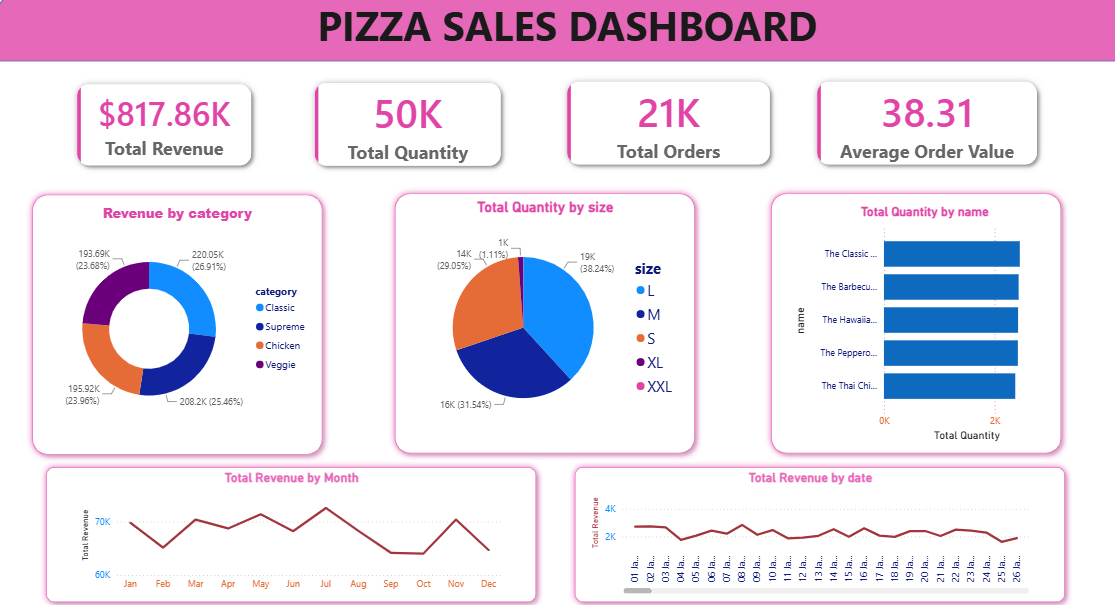

The page's visual inventory and layout, read from the dashboard file:
{"tool":"powerbi","page":{"name":"Page 1","canvas":[1500,820],"ordinal":0},"visuals":[{"type":"cardVisual","fields":{"Data":["order_details.Total Revenue"]},"box":[76.7,91.7,290,166.7],"z":0},{"type":"cardVisual","fields":{"Data":["order_details.Total Orders"]},"box":[730,88.3,328.3,168.3],"z":1000},{"type":"cardVisual","fields":{"Data":["order_details.Total Quantity"]},"box":[393.3,90,306.7,168.3],"z":2000},{"type":"cardVisual","fields":{"Data":["order_details.Average Order Value"]},"box":[1063.3,88.3,351.7,168.3],"z":3000},{"type":"shape","box":[0,0,1500,90],"z":4000},{"type":"textbox","box":[18.3,0,1481.7,88.3],"z":5000},{"type":"shape","box":[36.7,258.3,405,365],"z":6000},{"type":"donutChart","fields":{"Category":["pizza_types.category"],"Y":["order_details.Revenue"]},"box":[55,280,368.3,308.3],"z":7000},{"type":"shape","box":[520,256.7,418.3,365],"z":8000},{"type":"shape","box":[1021.7,256.7,405,365],"z":9000},{"type":"pieChart","fields":{"Category":["pizzas.size"],"Y":["order_details.Total Quantity"]},"box":[546.7,273.3,366.7,321.7],"z":10000},{"type":"clusteredBarChart","fields":{"Category":["pizza_types.name"],"Y":["order_details.Total Quantity"]},"box":[1056.7,280,358.3,321.7],"z":11000},{"type":"shape","box":[55,621.7,671.7,198.3],"z":12000},{"type":"shape","box":[760,621.7,671.7,198.3],"z":13000},{"type":"lineChart","fields":{"Category":["orders.Month"],"Y":["order_details.Total Revenue"]},"box":[106.7,635,570,170],"z":14000},{"type":"lineChart","fields":{"Y":["order_details.Total Revenue"],"Category":["orders.date"]},"box":[786.7,635,593.3,170],"z":15000}]}

Visuals, with their boxes in screenshot pixels (x1, y1, x2, y2), scaled from the page's 1500x820 canvas onto the 1115x605 screenshot:
cardVisual - order_details.Total Revenue: <bbox>57, 68, 273, 191</bbox>
cardVisual - order_details.Total Orders: <bbox>543, 65, 787, 189</bbox>
cardVisual - order_details.Total Quantity: <bbox>292, 66, 520, 191</bbox>
cardVisual - order_details.Average Order Value: <bbox>790, 65, 1052, 189</bbox>
shape: <bbox>0, 0, 1114, 66</bbox>
textbox: <bbox>14, 0, 1114, 65</bbox>
shape: <bbox>27, 191, 328, 460</bbox>
donutChart - pizza_types.category x order_details.Revenue: <bbox>41, 207, 315, 434</bbox>
shape: <bbox>387, 189, 697, 459</bbox>
shape: <bbox>759, 189, 1061, 459</bbox>
pieChart - pizzas.size x order_details.Total Quantity: <bbox>406, 202, 679, 439</bbox>
clusteredBarChart - pizza_types.name x order_details.Total Quantity: <bbox>785, 207, 1052, 444</bbox>
shape: <bbox>41, 459, 540, 604</bbox>
shape: <bbox>565, 459, 1064, 604</bbox>
lineChart - orders.Month x order_details.Total Revenue: <bbox>79, 469, 503, 594</bbox>
lineChart - order_details.Total Revenue x orders.date: <bbox>585, 469, 1026, 594</bbox>
